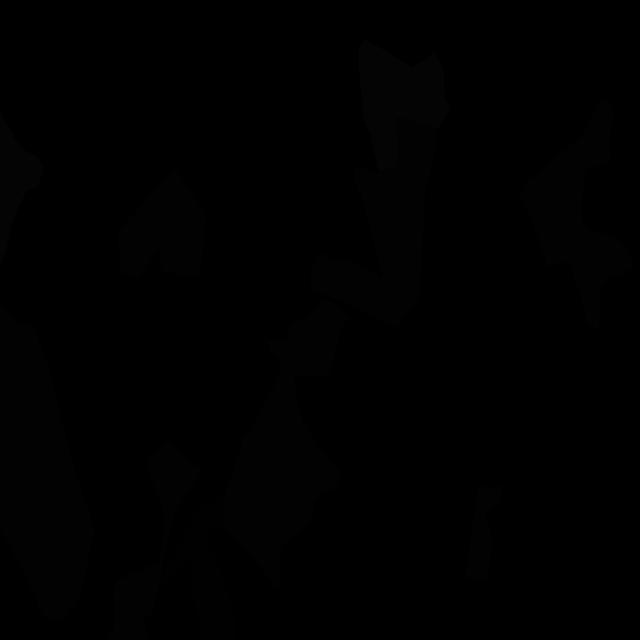cardboard: (222, 300, 353, 592), (0, 303, 95, 623), (519, 100, 635, 330), (107, 439, 204, 640), (310, 166, 426, 328), (118, 167, 206, 278), (465, 484, 502, 583), (397, 116, 437, 189)
rigid_plastic: (162, 494, 236, 640)
soft_plastic: (358, 38, 450, 172), (0, 111, 44, 266)
